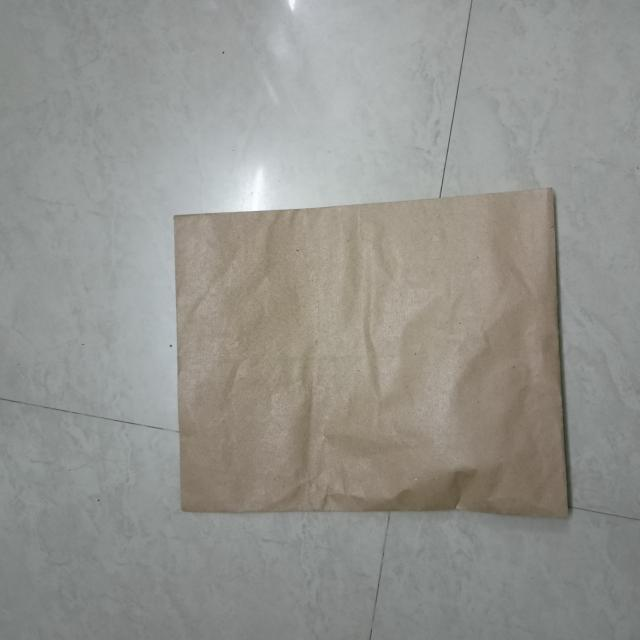box: (176, 189, 575, 518)
